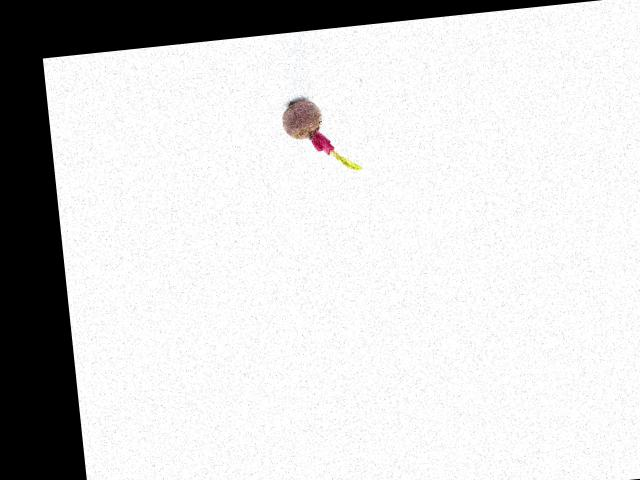beet: (279, 94, 361, 177)
